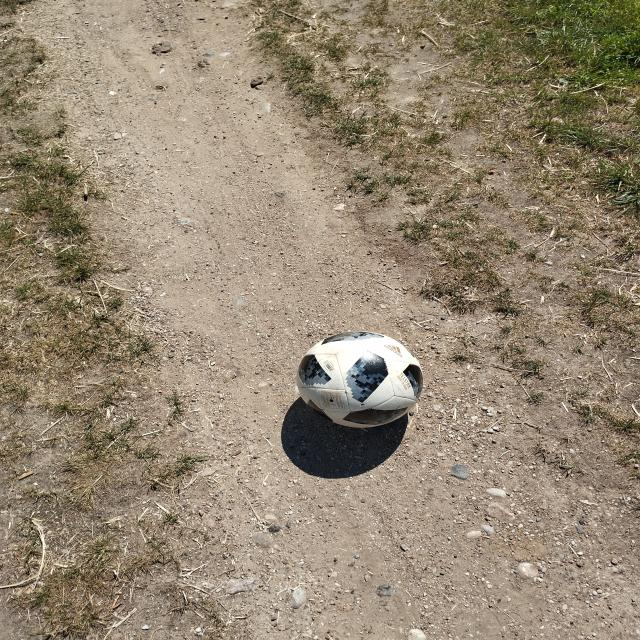nozna: (296, 331, 424, 428)
